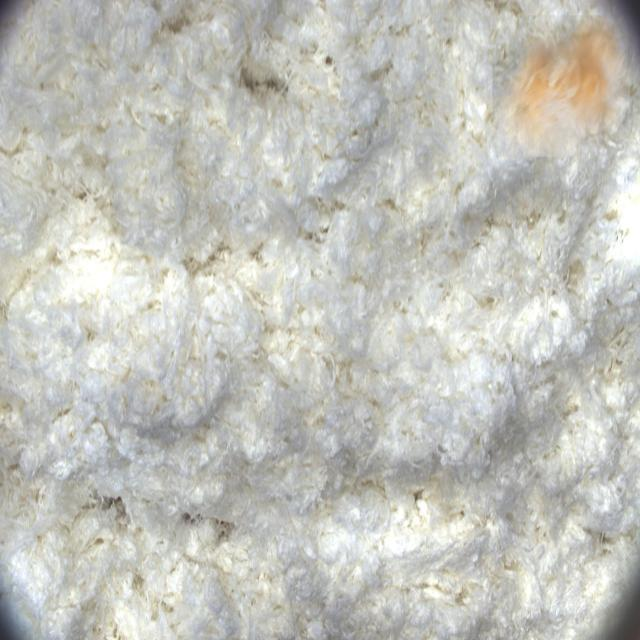dust: (492, 15, 628, 157)
